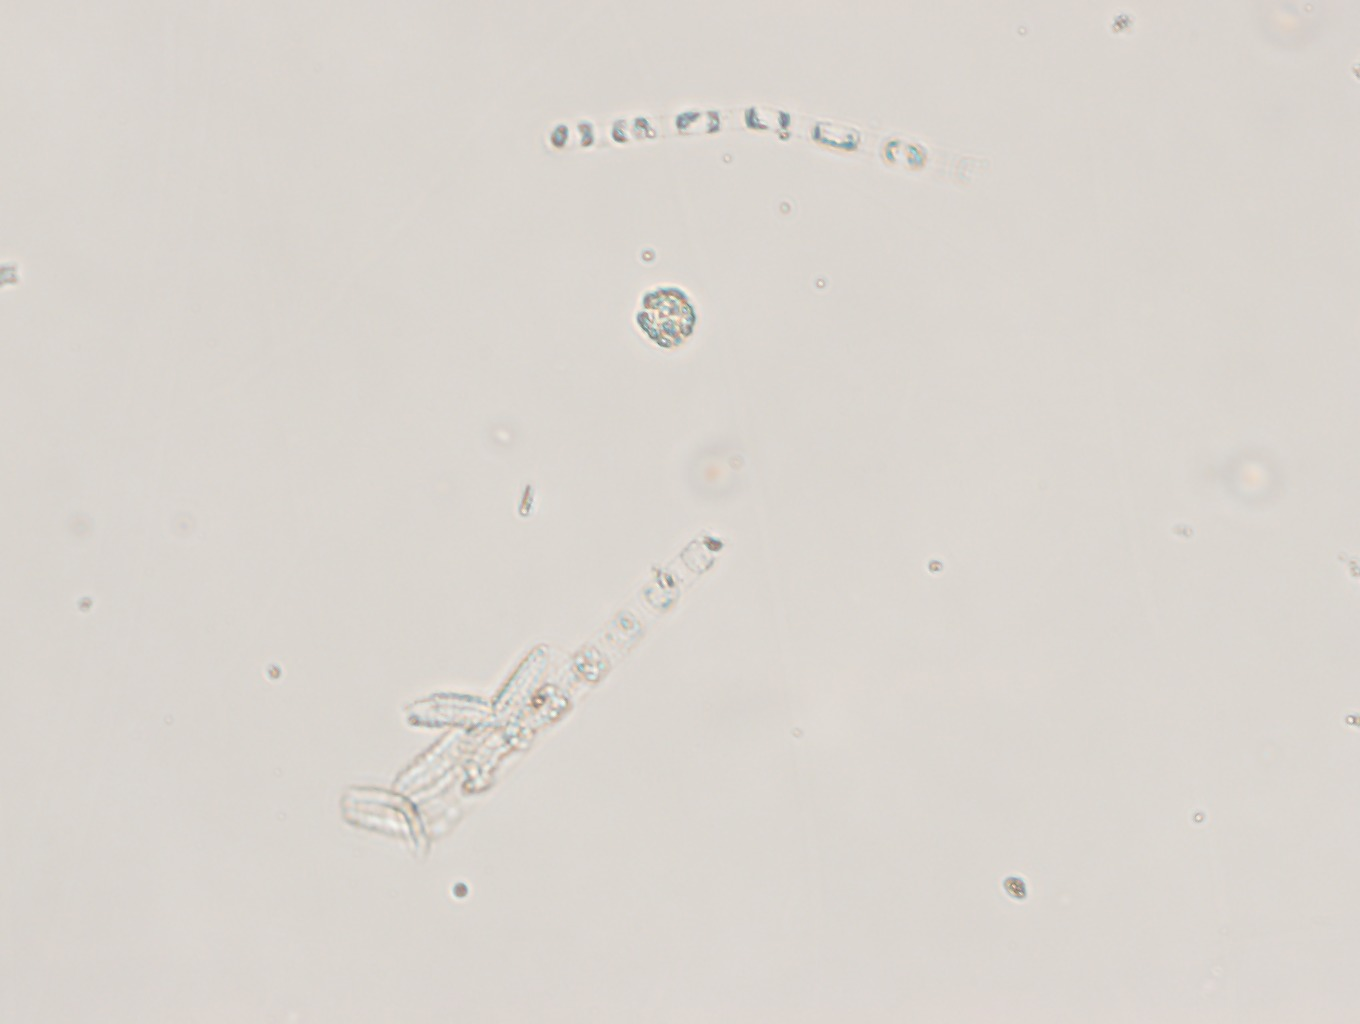skeletonema: (530, 76, 1007, 201)
